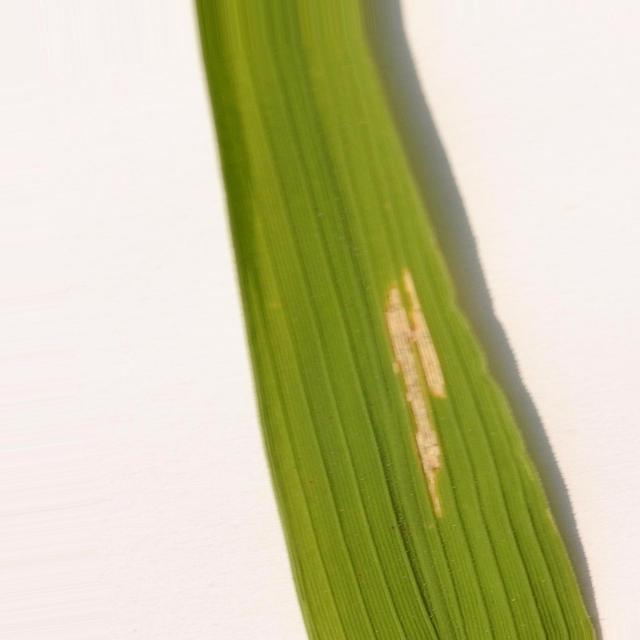Bacterial_Leaf_Blight: (385, 270, 446, 516)
